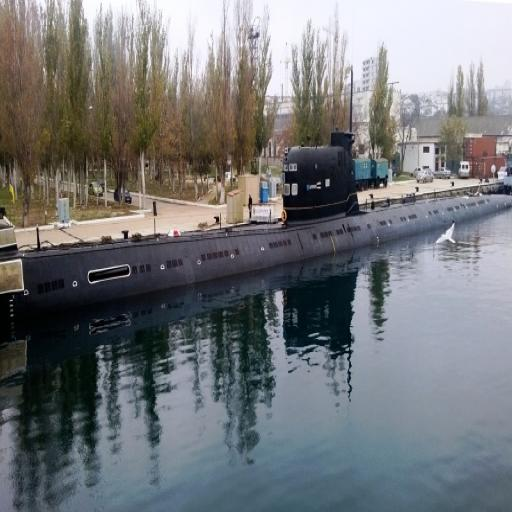submarine: (28, 144, 512, 340)
